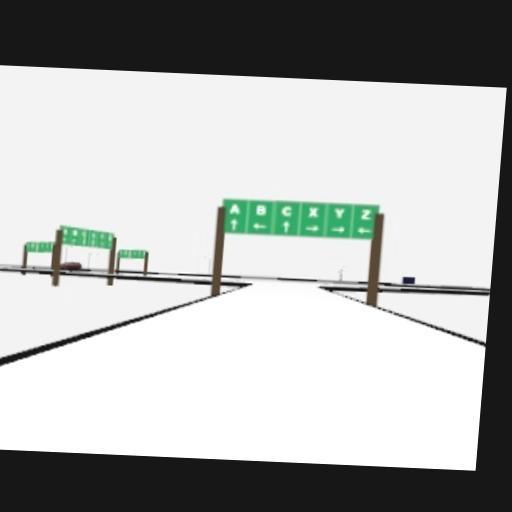A: (228, 202, 240, 212)
B: (255, 203, 265, 213), (72, 227, 77, 235)
C: (281, 204, 291, 215)
Left: (252, 221, 267, 229), (356, 226, 371, 234)
Right: (329, 224, 345, 232), (304, 222, 320, 229)
Straight: (280, 218, 291, 231), (228, 217, 237, 229)
X: (307, 205, 317, 216)
Y: (334, 206, 346, 218), (0, 64, 7, 73)
Z: (58, 224, 73, 242), (96, 229, 108, 246), (87, 229, 97, 245), (359, 208, 372, 220), (103, 231, 114, 244), (84, 230, 93, 243), (79, 229, 87, 242), (28, 240, 41, 247), (61, 227, 68, 235), (0, 132, 1, 147)
